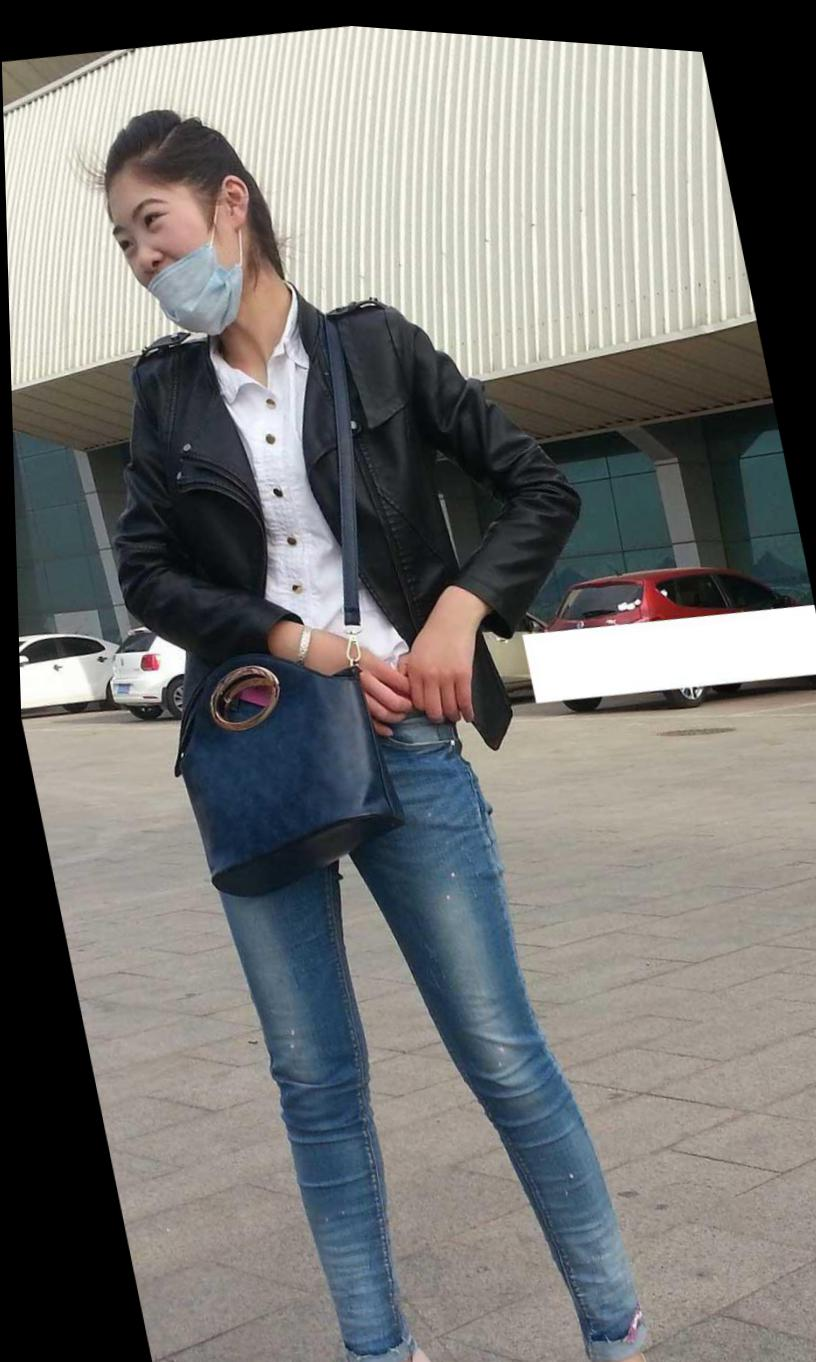WRONG: (112, 173, 263, 344)
